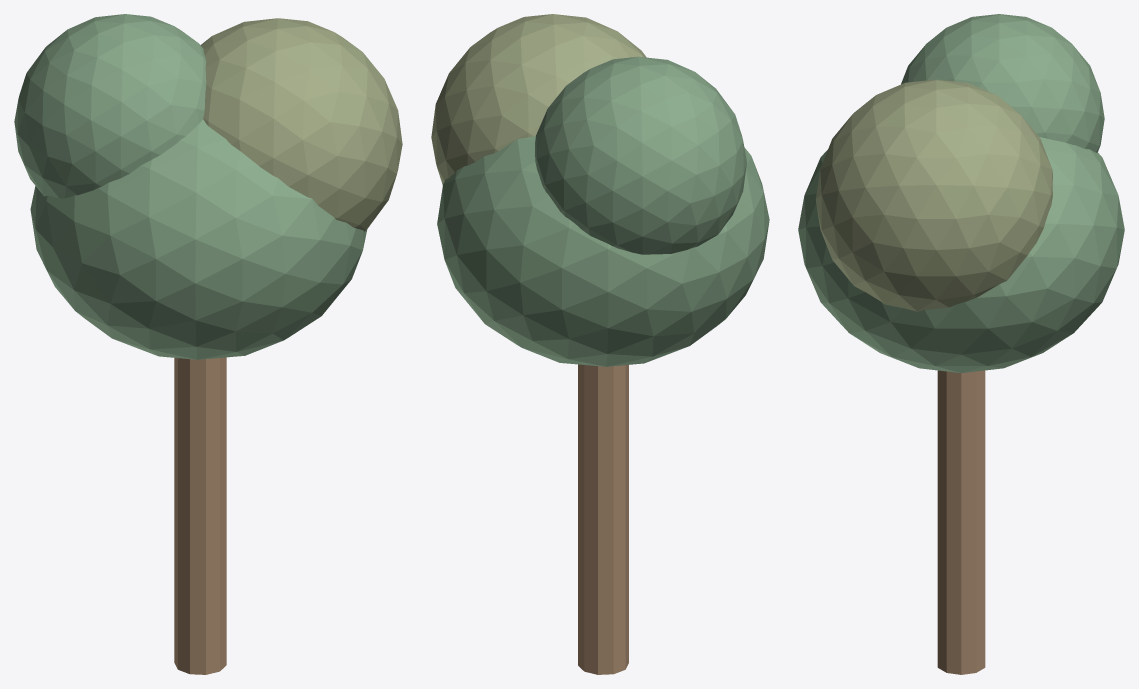
File: street_tree_01.glb
3 renders of one model, left to right at view 1: azimuth 30°, elevation 25°; view 2: azimuth 150°, elevation 25°; view 3: azimuth 270°, elevation 25°, orthographic. The views are drawn at different scales.
Parts seen in each view (by area): view 1: crown1, crown2, crown3, trunk; view 2: crown1, crown3, crown2, trunk; view 3: crown2, crown1, crown3, trunk.
Boxes of the visible parts, x1,y1,x2,y2 form: crown1: (30,119,367,359); crown2: (200,18,402,231); crown3: (14,14,206,198); trunk: (174,357,226,674); crown1: (437,135,769,366); crown3: (535,56,746,254); crown2: (431,14,646,185); trunk: (578,364,628,674); crown2: (815,79,1052,311); crown1: (798,137,1124,372); crown3: (901,14,1104,152); trunk: (937,370,985,674).
Size of the model in its own units: 1.43 by 2.7 by 1.3.
